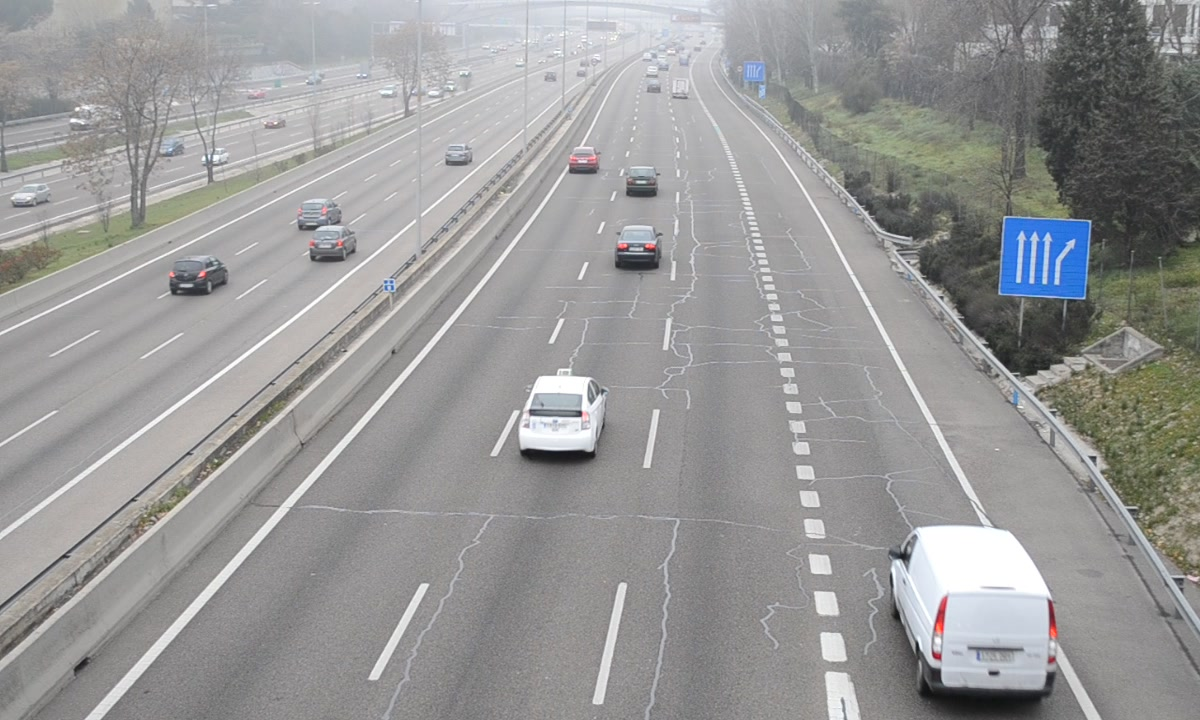car: (521, 377, 601, 454), (616, 223, 660, 265), (625, 165, 657, 195), (567, 146, 598, 173)
van: (890, 526, 1059, 699)
